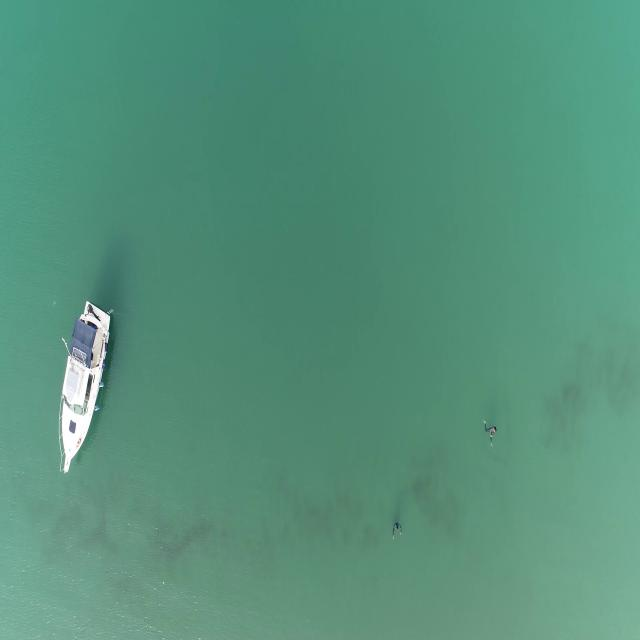boat: (53, 301, 114, 475)
person: (482, 421, 496, 444), (390, 521, 403, 543)
